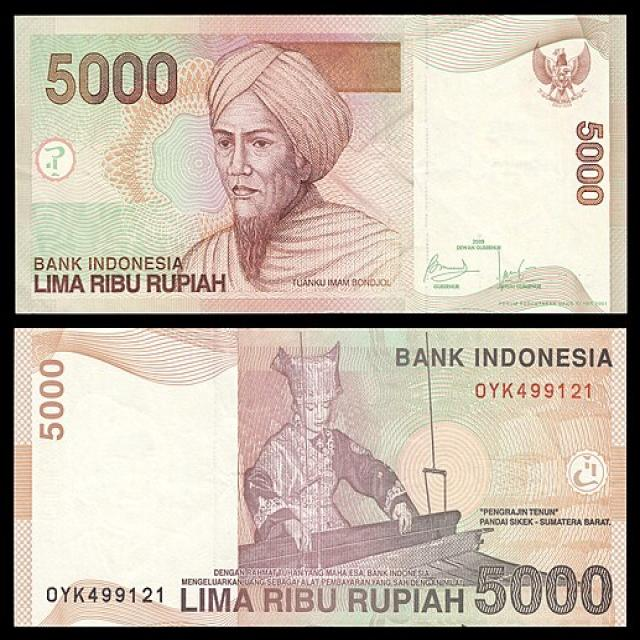lima ribu rupiah: (15, 16, 626, 319), (15, 329, 624, 624)
